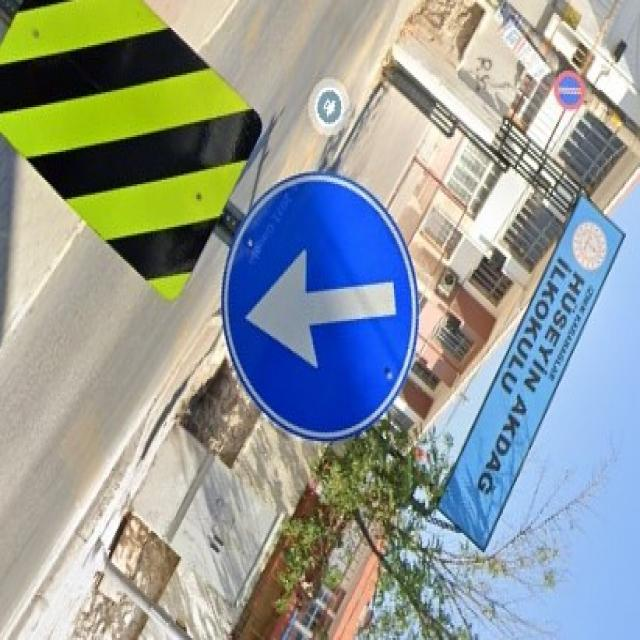Turn Left: (226, 166, 422, 446)
